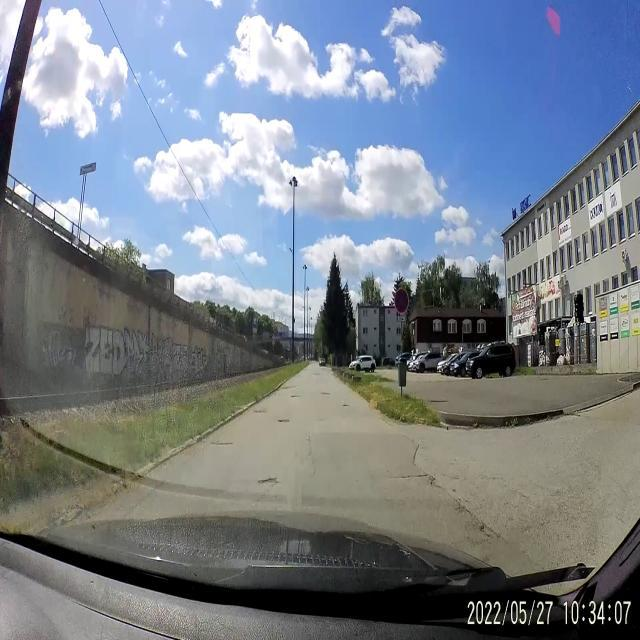Pothole: (391, 466, 438, 494), (472, 514, 501, 542), (255, 471, 280, 490), (208, 433, 234, 449), (253, 406, 267, 418), (274, 418, 292, 427)
